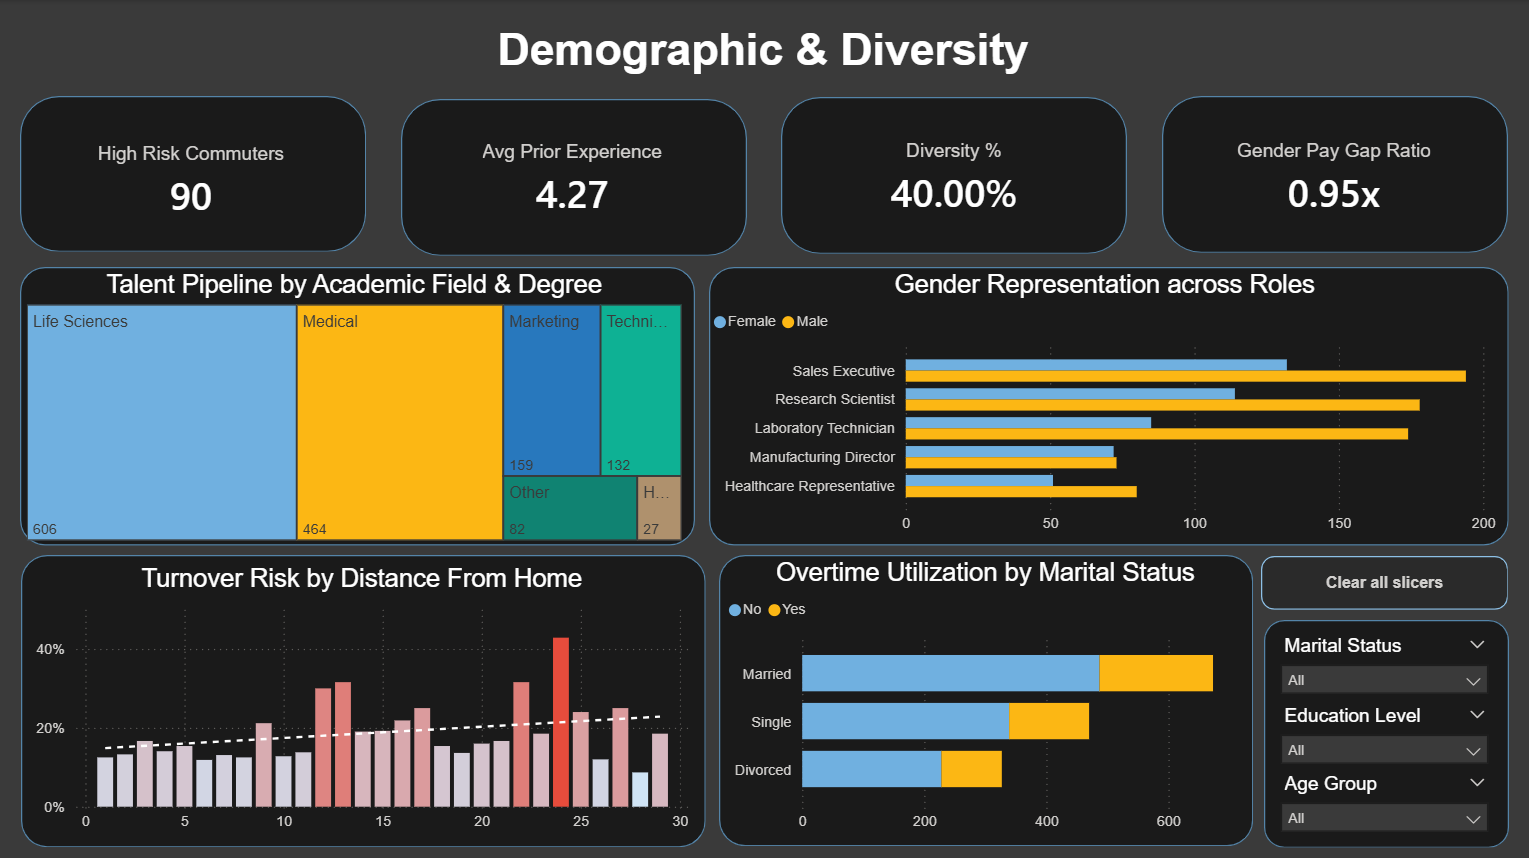

The dashboard page shown, as its layout file describes it:
{"tool":"powerbi","page":{"name":"👥 Demographics & Diversity","canvas":[1280,720],"ordinal":2},"visuals":[{"type":"group","id":"g1","title":"Background","box":[11,84.4,1260.2,627.6],"z":0},{"type":"shape","box":[11.4,226.8,577.3,232.5],"z":0,"group":"g1"},{"type":"textbox","box":[9.7,0,1270.3,68.1],"z":1000},{"type":"shape","box":[589.5,226.8,681.4,232.5],"z":1000,"group":"g1"},{"type":"areaChart","title":"Tenure Band vs. Attrition","fields":{"Category":["v_FactHRPerformance.Tenure Band"],"Y":["_Measures.Attrition Rate %"]},"box":[10.8,232.5,567.4,227.1],"z":2000},{"type":"shape","box":[11,468,667,244],"z":2000,"group":"g1"},{"type":"treemap","title":"Education Field Distribution","fields":{"Group":["v_DimEmployeeDetails.Education Field"],"Values":["_Measures.Total Employees"]},"box":[597,232.5,668.8,220.8],"z":3000},{"type":"shape","box":[688.3,468.3,360,242.4],"z":3000,"group":"g1"},{"type":"pivotTable","title":"Performance Rating Concentration by Age Group","fields":{"Rows":["v_DimEmployeeDetails.Age Group","v_DimJobDetails.Job Role"],"Columns":["v_FactHRPerformance.Performance Score"],"Values":["_Measures.Total Employees"]},"box":[697.4,471.7,344.3,230.5],"z":4000},{"type":"shape","box":[1056.4,514.1,212.8,193],"z":4000,"group":"g1"},{"type":"shape","box":[12.6,86.7,299,133],"z":5000,"group":"g1"},{"type":"map","title":"Attrition Risk by Commute Distance","fields":{"Category":["v_DimEmployeeDetails.Distance From Home"],"Size":["_Measures.Attrition Count"]},"box":[17.1,471.3,655.4,230.7],"z":5000},{"type":"shape","box":[331.8,86.4,299,133],"z":6000,"group":"g1"},{"type":"slicer","fields":{"Values":["v_DimEmployeeDetails.Marital Status"]},"box":[1065.8,521.6,192.5,64.8],"z":6000},{"type":"shape","box":[648.3,84.9,299,132.9],"z":7000,"group":"g1"},{"type":"slicer","fields":{"Values":["v_DimEmployeeDetails.Education Level"]},"box":[1065.8,582.5,192.5,64],"z":7000},{"type":"shape","box":[972.2,84.4,299,133.8],"z":8000,"group":"g1"},{"type":"slicer","fields":{"Values":["v_DimEmployeeDetails.Age Group"]},"box":[1065.8,640.5,192.5,64],"z":8000},{"type":"actionButton","box":[1056,461.7,213.2,44.2],"z":9000},{"type":"cardVisual","fields":{"Data":["_Measures.Avg Age"]},"box":[18.9,70.9,287.3,153.5],"z":10000},{"type":"cardVisual","fields":{"Data":["_Measures.Female Employees"]},"box":[332.2,74.5,299,161.6],"z":11000},{"type":"cardVisual","fields":{"Data":["_Measures.Male Employees"]},"box":[648.2,70,299,166.1],"z":12000},{"type":"cardVisual","fields":{"Data":["_Measures.Male %"]},"box":[972.3,73.6,292.7,158.9],"z":13000}]}

Visuals, with their boxes in screenshot pixels (x1, y1, x2, y2), scaled from the page's 1280x720 canvas onto the 1529x858 screenshot:
"Background" group: select_region(13, 101, 1518, 848)
shape: select_region(14, 270, 703, 547)
textbox: select_region(12, 0, 1528, 81)
shape: select_region(704, 270, 1518, 547)
"Tenure Band vs. Attrition" areaChart: select_region(13, 277, 691, 548)
shape: select_region(13, 558, 810, 848)
"Education Field Distribution" treemap: select_region(713, 277, 1512, 540)
shape: select_region(822, 558, 1252, 847)
"Performance Rating Concentration by Age Group" pivotTable: select_region(833, 562, 1244, 837)
shape: select_region(1262, 613, 1516, 843)
shape: select_region(15, 103, 372, 262)
"Attrition Risk by Commute Distance" map: select_region(20, 562, 803, 837)
shape: select_region(396, 103, 754, 261)
slicer - v_DimEmployeeDetails.Marital Status: select_region(1273, 622, 1503, 699)
shape: select_region(774, 101, 1132, 260)
slicer - v_DimEmployeeDetails.Education Level: select_region(1273, 694, 1503, 770)
shape: select_region(1161, 101, 1518, 260)
slicer - v_DimEmployeeDetails.Age Group: select_region(1273, 763, 1503, 840)
actionButton: select_region(1261, 550, 1516, 603)
cardVisual - _Measures.Avg Age: select_region(23, 84, 366, 267)
cardVisual - _Measures.Female Employees: select_region(397, 89, 754, 281)
cardVisual - _Measures.Male Employees: select_region(774, 83, 1131, 281)
cardVisual - _Measures.Male %: select_region(1161, 88, 1511, 277)
